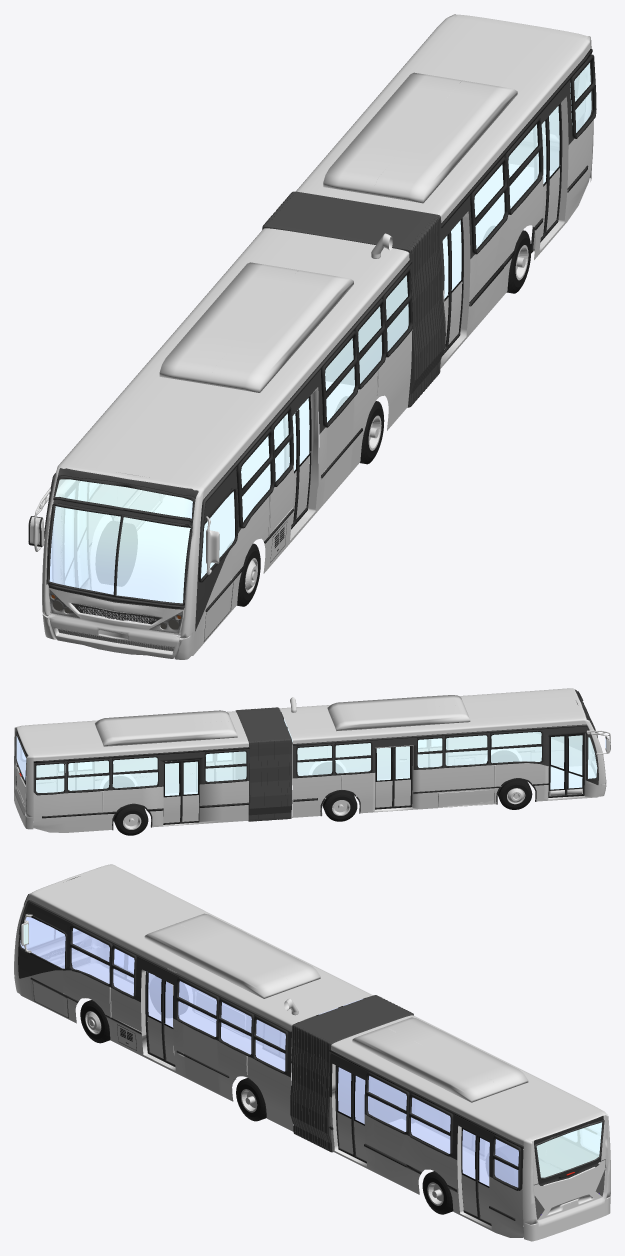
File: bus.glb
3 views of the same model, one above another, from view 1: azimuth 30°, elevation 25°; view 2: azimuth 150°, elevation 25°; view 3: azimuth 270°, elevation 25° (orthographic). The views are drawn at different scales.
Visible parts, largest first — view 1: Object_15, Object_17, Object_2, Object_18, Object_20, Object_19, Object_13, Object_16, Object_23; view 2: Object_15, Object_17, Object_2, Object_18, Object_20, Object_13, Object_19, Object_14, Object_23; view 3: Object_15, Object_17, Object_2, Object_18, Object_20, Object_19, Object_13, Object_23, Object_14.
Boxes of the visible parts, <box> form: Object_15: <box>28,14,593,659</box>; Object_17: <box>49,63,591,603</box>; Object_2: <box>262,191,445,407</box>; Object_18: <box>63,49,592,624</box>; Object_20: <box>44,62,592,631</box>; Object_19: <box>91,54,596,528</box>; Object_13: <box>96,226,531,606</box>; Object_16: <box>47,475,195,605</box>; Object_23: <box>245,245,528,593</box>; Object_15: <box>14,688,610,832</box>; Object_17: <box>16,719,606,795</box>; Object_2: <box>235,707,292,821</box>; Object_18: <box>16,729,594,830</box>; Object_20: <box>15,689,598,793</box>; Object_13: <box>104,751,532,835</box>; Object_19: <box>35,727,543,795</box>; Object_14: <box>58,733,583,797</box>; Object_23: <box>123,788,525,829</box>; Object_15: <box>14,864,610,1241</box>; Object_17: <box>20,917,602,1187</box>; Object_2: <box>290,995,414,1152</box>; Object_18: <box>18,912,603,1225</box>; Object_20: <box>18,900,604,1190</box>; Object_19: <box>68,924,596,1190</box>; Object_13: <box>80,977,518,1214</box>; Object_23: <box>85,1011,443,1205</box>; Object_14: <box>115,961,489,1187</box>.
Size of what is drawn, in the model's own units: 7.16 by 1.55 by 6.13.
